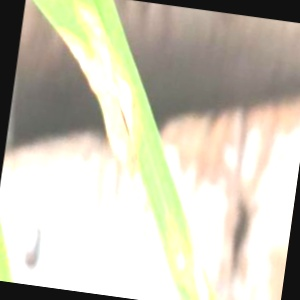Brown_Spot: (48, 10, 158, 165), (164, 232, 199, 277)
